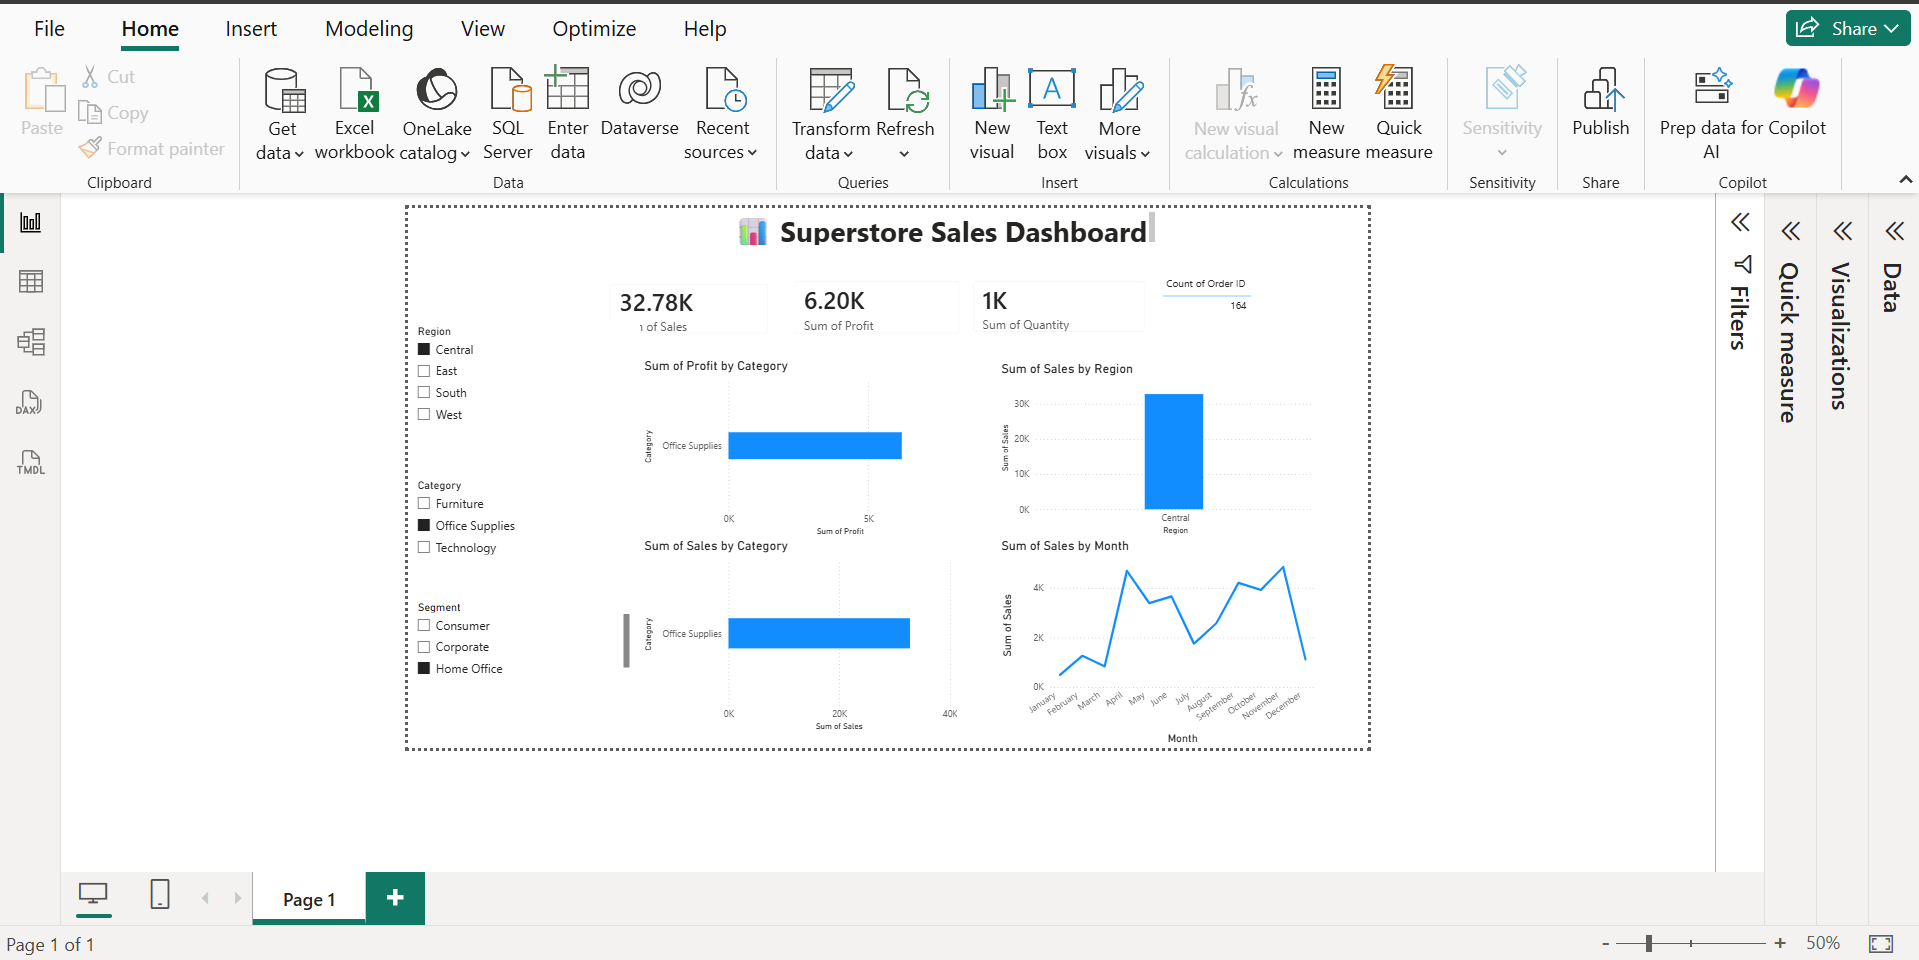

Layout of this report page (visuals, bound fields, positions):
{"tool":"powerbi","page":{"name":"Page 1","canvas":[1280,720],"ordinal":0},"visuals":[{"type":"cardVisual","fields":{"Data":["Sum(Sample - Superstore.Sales)"]},"box":[252.3,84.1,245.5,100],"z":0},{"type":"cardVisual","fields":{"Data":["Sum(Sample - Superstore.Profit)"]},"box":[497.7,79.5,254.5,104.5],"z":1000},{"type":"cardVisual","fields":{"Data":["Sum(Sample - Superstore.Quantity)"]},"box":[736.4,79.5,263.6,102.3],"z":2000},{"type":"tableEx","fields":{"Values":["Sample - Superstore.Order ID"]},"box":[1000,84.1,263.6,88.6],"z":3000},{"type":"clusteredColumnChart","fields":{"Category":["Sample - Superstore.Region"],"Y":["Sum(Sample - Superstore.Sales)"]},"box":[786.4,204.5,427.3,236.4],"z":4000},{"type":"clusteredBarChart","fields":{"Category":["Sample - Superstore.Category"],"Y":["Sum(Sample - Superstore.Sales)"]},"box":[309.1,440.9,427.3,261.4],"z":5000},{"type":"clusteredBarChart","fields":{"Category":["Sample - Superstore.Category"],"Y":["Sum(Sample - Superstore.Profit)"]},"box":[309.1,200,427.3,240.9],"z":6000},{"type":"lineChart","fields":{"Category":["Sample - Superstore.Order Date.Variation.Date Hierarchy.Month"],"Y":["Sum(Sample - Superstore.Sales)"]},"box":[786.4,440.9,427.3,279.5],"z":7000},{"type":"textbox","box":[427.3,0,572.7,54.5],"z":8000},{"type":"slicer","fields":{"Values":["Sample - Superstore.Region"]},"box":[0,150,309.1,145.5],"z":9000},{"type":"slicer","fields":{"Values":["Sample - Superstore.Category"]},"box":[0,356.8,300,120.5],"z":10000},{"type":"slicer","fields":{"Values":["Sample - Superstore.Segment"]},"box":[0,518.2,300,111.4],"z":11000}]}

Visuals, with their boxes on the page's 1280x720 design canvas (x1, y1, x2, y2). These are canvas units, not pixel positions in the 1919x960 screenshot, which may show the page scaled, cropped or inside an application window:
cardVisual - Sum(Sample - Superstore.Sales): bbox=[252, 84, 498, 184]
cardVisual - Sum(Sample - Superstore.Profit): bbox=[498, 80, 752, 184]
cardVisual - Sum(Sample - Superstore.Quantity): bbox=[736, 80, 1000, 182]
tableEx - Sample - Superstore.Order ID: bbox=[1000, 84, 1264, 173]
clusteredColumnChart - Sample - Superstore.Region x Sum(Sample - Superstore.Sales): bbox=[786, 204, 1214, 441]
clusteredBarChart - Sample - Superstore.Category x Sum(Sample - Superstore.Sales): bbox=[309, 441, 736, 702]
clusteredBarChart - Sample - Superstore.Category x Sum(Sample - Superstore.Profit): bbox=[309, 200, 736, 441]
lineChart - Sample - Superstore.Order Date.Variation.Date Hierarchy.Month x Sum(Sample - Superstore.Sales): bbox=[786, 441, 1214, 720]
textbox: bbox=[427, 0, 1000, 54]
slicer - Sample - Superstore.Region: bbox=[0, 150, 309, 296]
slicer - Sample - Superstore.Category: bbox=[0, 357, 300, 477]
slicer - Sample - Superstore.Segment: bbox=[0, 518, 300, 630]
